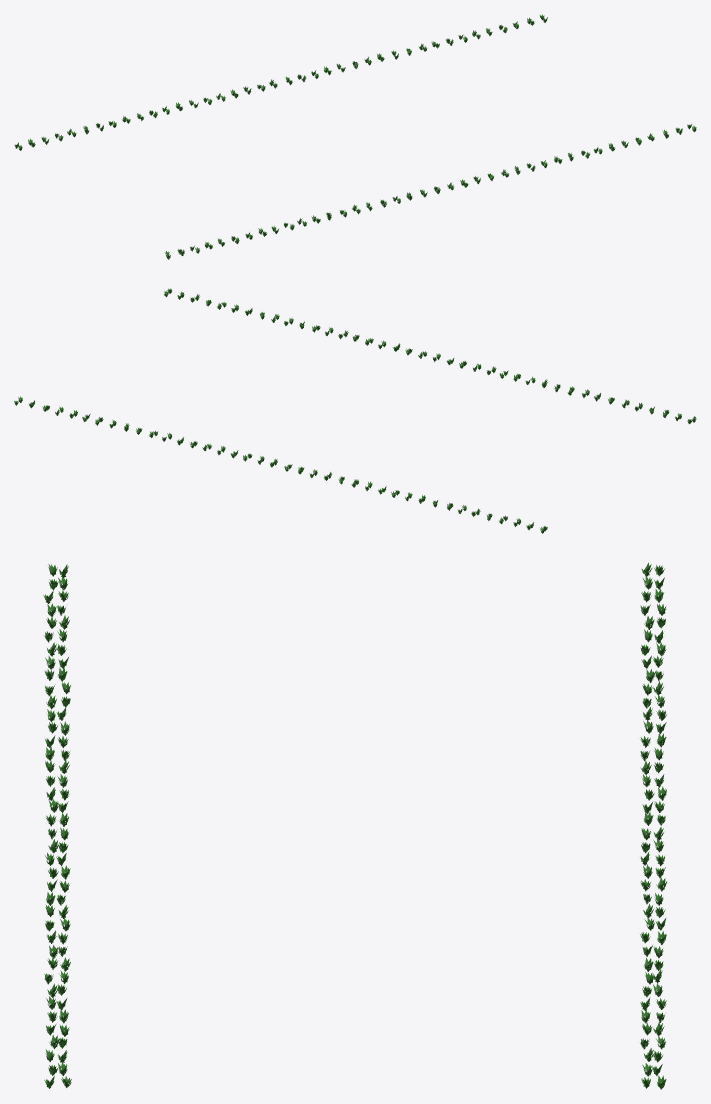
Rendered from farm_potato_plant.dae.
The picture shows the model from 3 angles, top to bottom: view 1: azimuth 30°, elevation 25°; view 2: azimuth 150°, elevation 25°; view 3: azimuth 270°, elevation 25°; orthographic projection. The views are drawn at different scales.
Parts seen in each view (by area): view 1: farm_potato_plant_node; view 2: farm_potato_plant_node; view 3: farm_potato_plant_node.
Boxes of the visible parts, x1=… form: farm_potato_plant_node: x1=14, y1=14, x2=696, y2=259; farm_potato_plant_node: x1=14, y1=288, x2=696, y2=533; farm_potato_plant_node: x1=43, y1=562, x2=666, y2=1089.
Bounding box in the file's own units: 19.73 × 10.07 × 0.2179.
